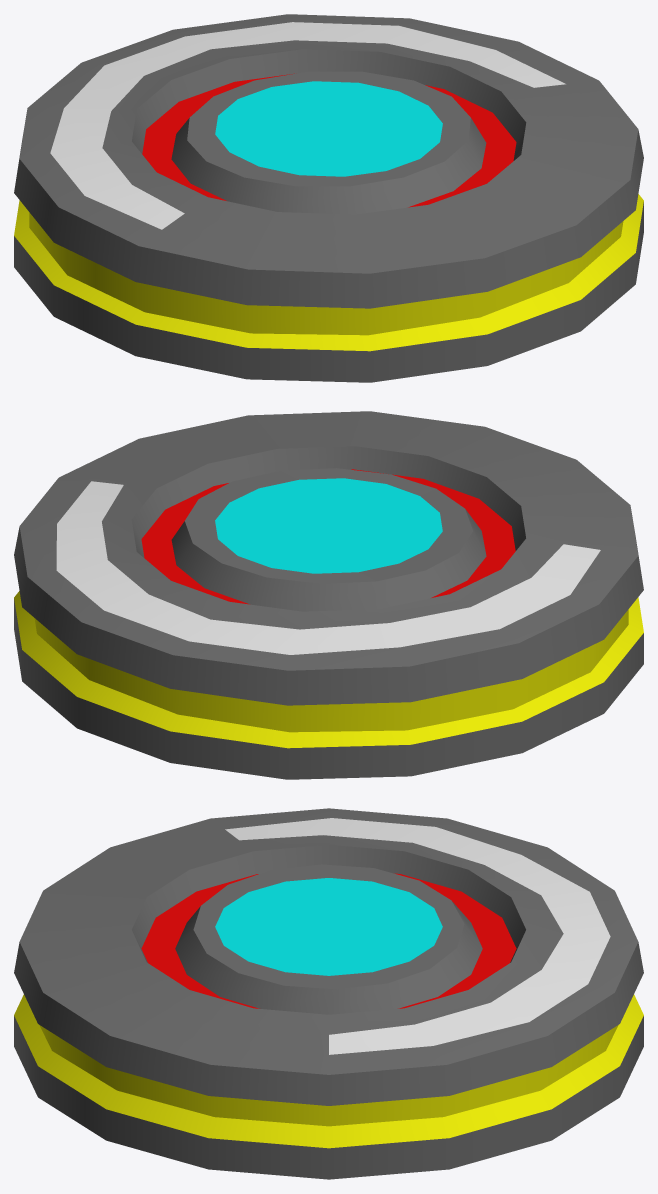
The model's file is Rumba.fbx.
3 views of the same model, one above another, from view 1: azimuth 30°, elevation 25°; view 2: azimuth 150°, elevation 25°; view 3: azimuth 270°, elevation 25° (orthographic).
Visible parts, largest first — view 1: Rumba; view 2: Rumba; view 3: Rumba.
Boxes of the visible parts, x1,y1,x2,y2 form: Rumba: [14, 14, 643, 382]; Rumba: [14, 411, 643, 779]; Rumba: [14, 808, 643, 1179].
Size of the model in its own units: 105 by 22.29 by 105.
